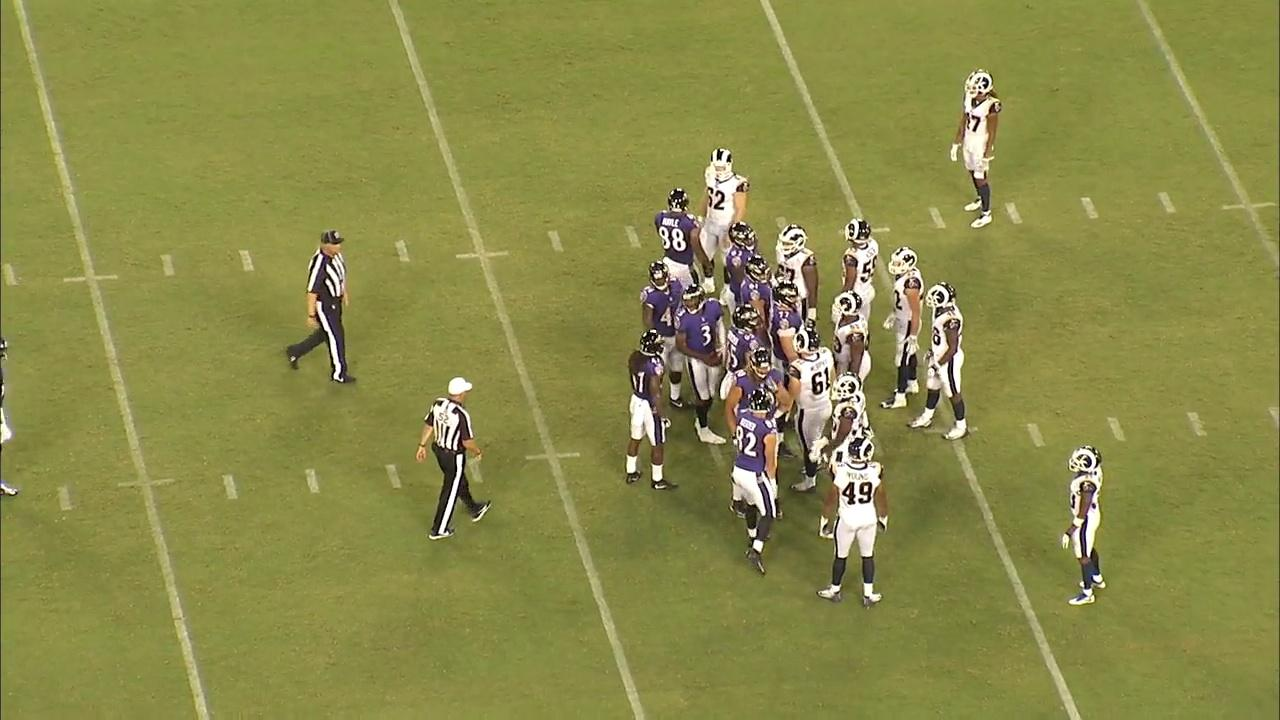five_hash: (451, 247, 513, 263), (59, 271, 122, 285), (115, 478, 182, 491), (522, 449, 584, 463), (1218, 199, 1280, 211)
hash: (921, 200, 953, 236), (998, 194, 1029, 231), (153, 247, 183, 285), (232, 242, 264, 277), (1020, 419, 1050, 453), (218, 471, 246, 505), (381, 460, 408, 494), (1184, 407, 1210, 442), (1102, 412, 1128, 446), (299, 464, 325, 498), (390, 235, 415, 270), (52, 480, 77, 515), (1073, 193, 1101, 224), (0, 259, 26, 292), (620, 219, 646, 252), (544, 226, 571, 257), (1154, 189, 1179, 220), (464, 453, 487, 485)
